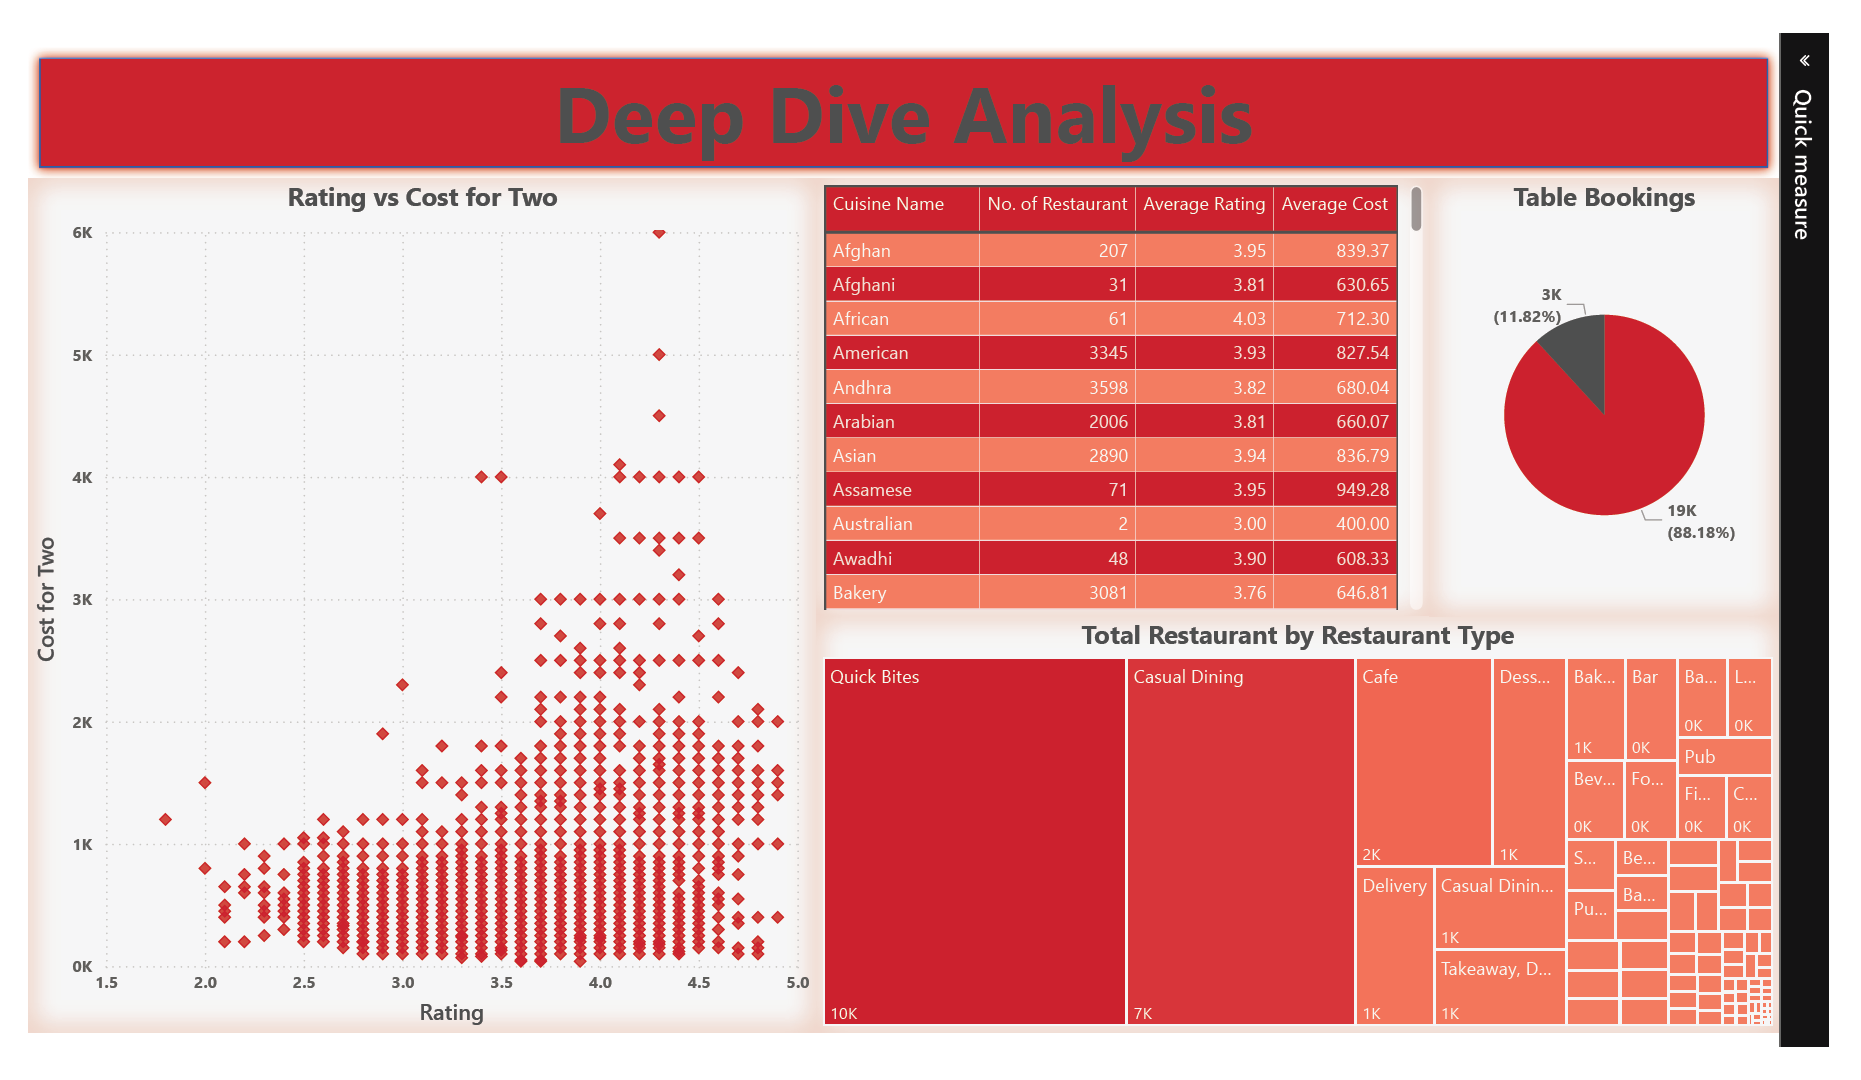

This screenshot's page, from the dashboard's own definition file:
{"tool":"powerbi","page":{"name":"Page Deep Dive Analysis","canvas":[1280,720],"ordinal":1},"visuals":[{"type":"shape","box":[0,0,1280,96],"z":1},{"type":"scatterChart","title":"Rating vs Cost for Two","fields":{"X":["zomato_db restaurants.rating"],"Y":["zomato_db restaurants.cost_for_two"]},"box":[0,96,576,624],"z":2},{"type":"tableEx","fields":{"Values":["zomato_db cuisines.cuisine_name","zomato_db restaurants.Total_restaurant","zomato_db restaurants.Average_Rating","zomato_db restaurants.Average_Cost"]},"box":[576,96,448,320],"z":3},{"type":"treemap","title":"Total Restaurant by Restaurant Type","fields":{"Group":["zomato_db restaurants.restaurant_type"],"Values":["zomato_db restaurants.Total_restaurant"]},"box":[576,416,704,304],"z":4},{"type":"pieChart","title":"Table Bookings","fields":{"Y":["zomato_db restaurants.Total_restaurant"],"Series":["zomato_db restaurants.has_table_booking"]},"box":[1024,96,256,320],"z":5}]}

Visuals, with their boxes on the page's 1280x720 design canvas (x1, y1, x2, y2). These are canvas units, not pixel positions in the 1861x1080 screenshot, which may show the page scaled, cropped or inside an application window:
shape: x1=0 y1=0 x2=1280 y2=96
"Rating vs Cost for Two" scatterChart: x1=0 y1=96 x2=576 y2=720
tableEx - zomato_db cuisines.cuisine_name x zomato_db restaurants.Total_restaurant: x1=576 y1=96 x2=1024 y2=416
"Total Restaurant by Restaurant Type" treemap: x1=576 y1=416 x2=1280 y2=720
"Table Bookings" pieChart: x1=1024 y1=96 x2=1280 y2=416
